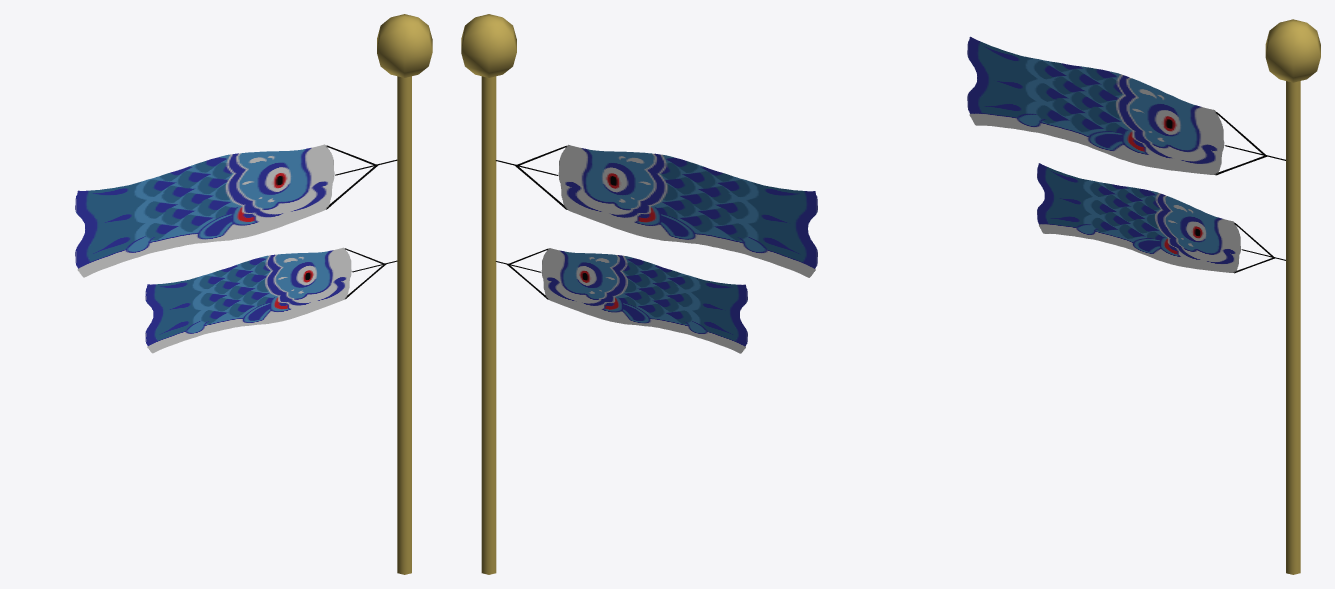
File: Carp.fbx
The picture shows the model from 3 angles, left to right: view 1: azimuth 30°, elevation 25°; view 2: azimuth 150°, elevation 25°; view 3: azimuth 330°, elevation 25°; orthographic projection.
Visible parts, largest first — view 1: polySurface5; view 2: polySurface5; view 3: polySurface5.
Boxes of the visible parts, box(x1,y1,x2,y2) form: polySurface5: box(75, 14, 432, 574); polySurface5: box(461, 14, 817, 574); polySurface5: box(967, 19, 1320, 574).
Bounding box in the file's own units: 15 × 19.03 × 1.73.
2 materials, 1 textured.
